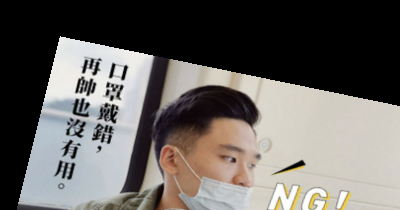mask_weared_incorrect: (147, 83, 263, 209)
